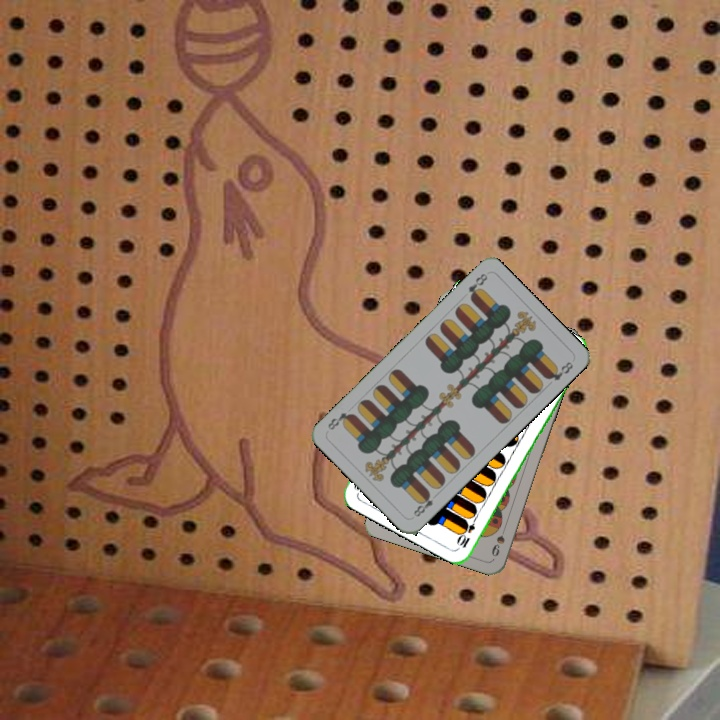E10: (455, 511, 480, 550)
E8: (409, 488, 441, 519), (464, 269, 490, 303)
S9: (487, 521, 509, 559)
